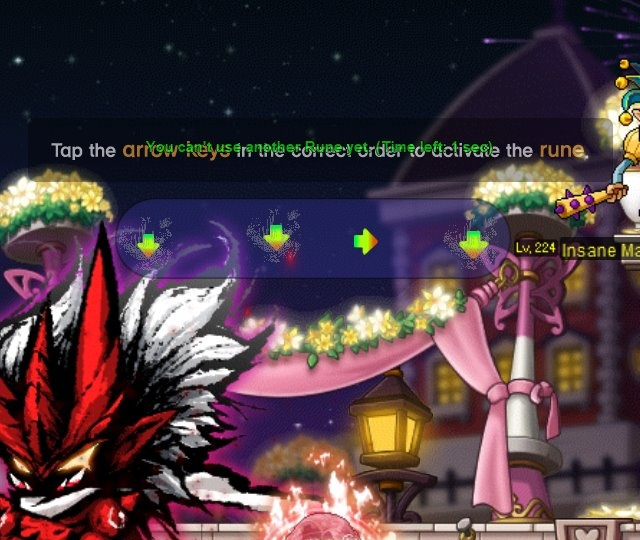rune_box: (104, 190, 521, 290)
